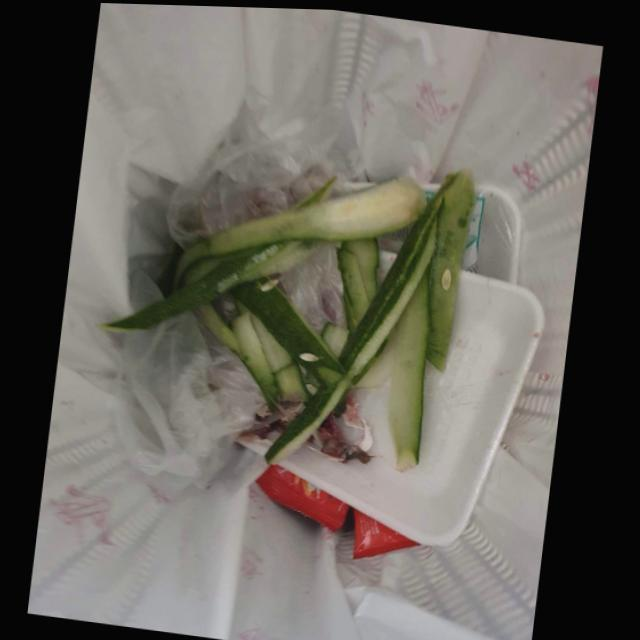biowaste: (236, 207, 437, 462), (106, 173, 426, 330), (206, 291, 307, 405), (425, 167, 478, 371), (388, 276, 432, 472), (337, 235, 380, 328)
styrofoam: (280, 268, 547, 545)
